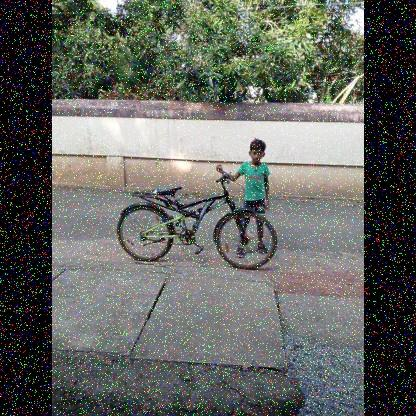Bicycle: (101, 155, 289, 278)
